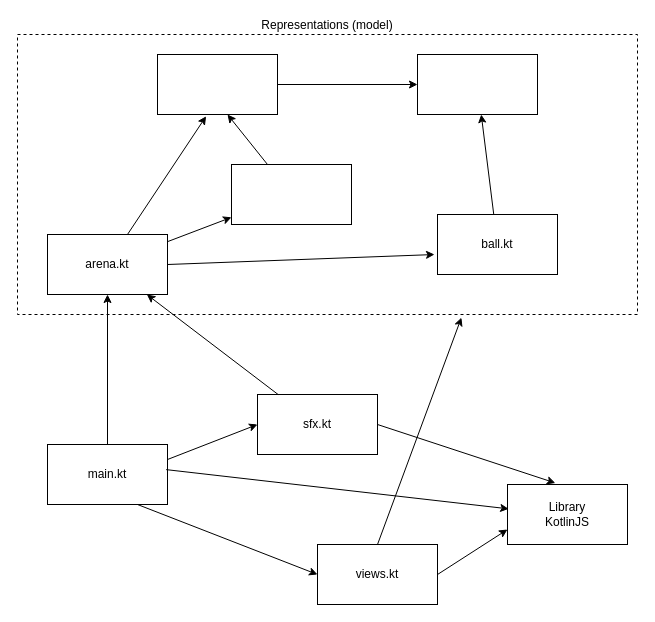
This 655x622 diagram has some shape labels left out. The box of each missing label's shape, as (x1, y1, x2, y2) in pixels:
bat.kt: (156, 54, 278, 114)
common.kt: (416, 54, 538, 114)
player.kt: (230, 164, 352, 224)
